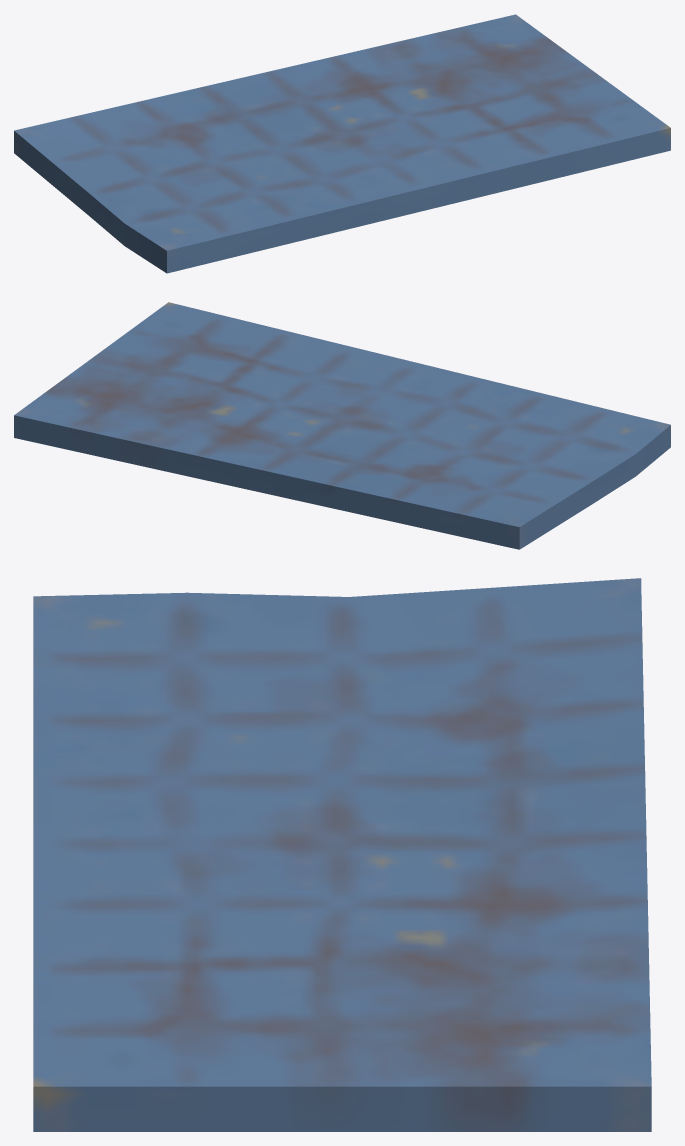
File: Pfb_Quilt.fbx
The picture shows the model from 3 angles, top to bottom: view 1: azimuth 30°, elevation 25°; view 2: azimuth 150°, elevation 25°; view 3: azimuth 270°, elevation 25°; orthographic projection. The views are drawn at different scales.
Parts seen in each view (by area): view 1: MAT_Camping_01; view 2: MAT_Camping_01; view 3: MAT_Camping_01.
Part boxes in pixels (<box>): MAT_Camping_01: <box>14,14,670,273</box>; MAT_Camping_01: <box>14,302,670,549</box>; MAT_Camping_01: <box>33,578,651,1131</box>.
Bounding box in the file's own units: 1.98 × 0.1174 × 1.05.
Materials: 1 (1 with a texture image).
